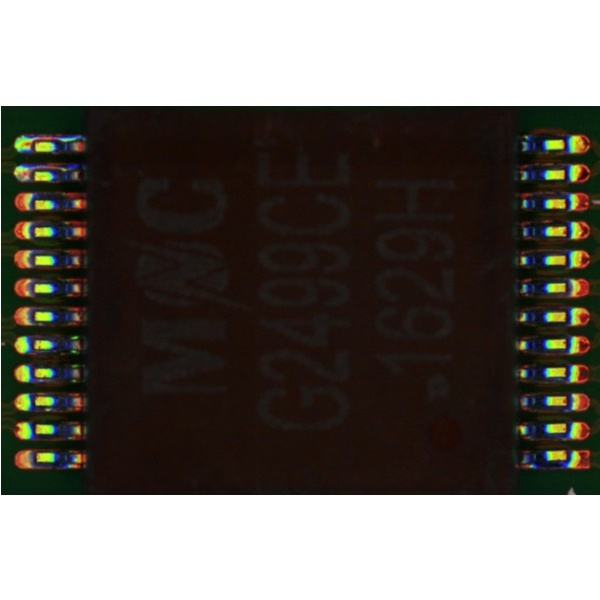Bad_podu: (22, 171, 39, 180), (22, 141, 40, 149)
Bad_qiaojiao: (32, 136, 86, 142), (32, 165, 79, 171)
